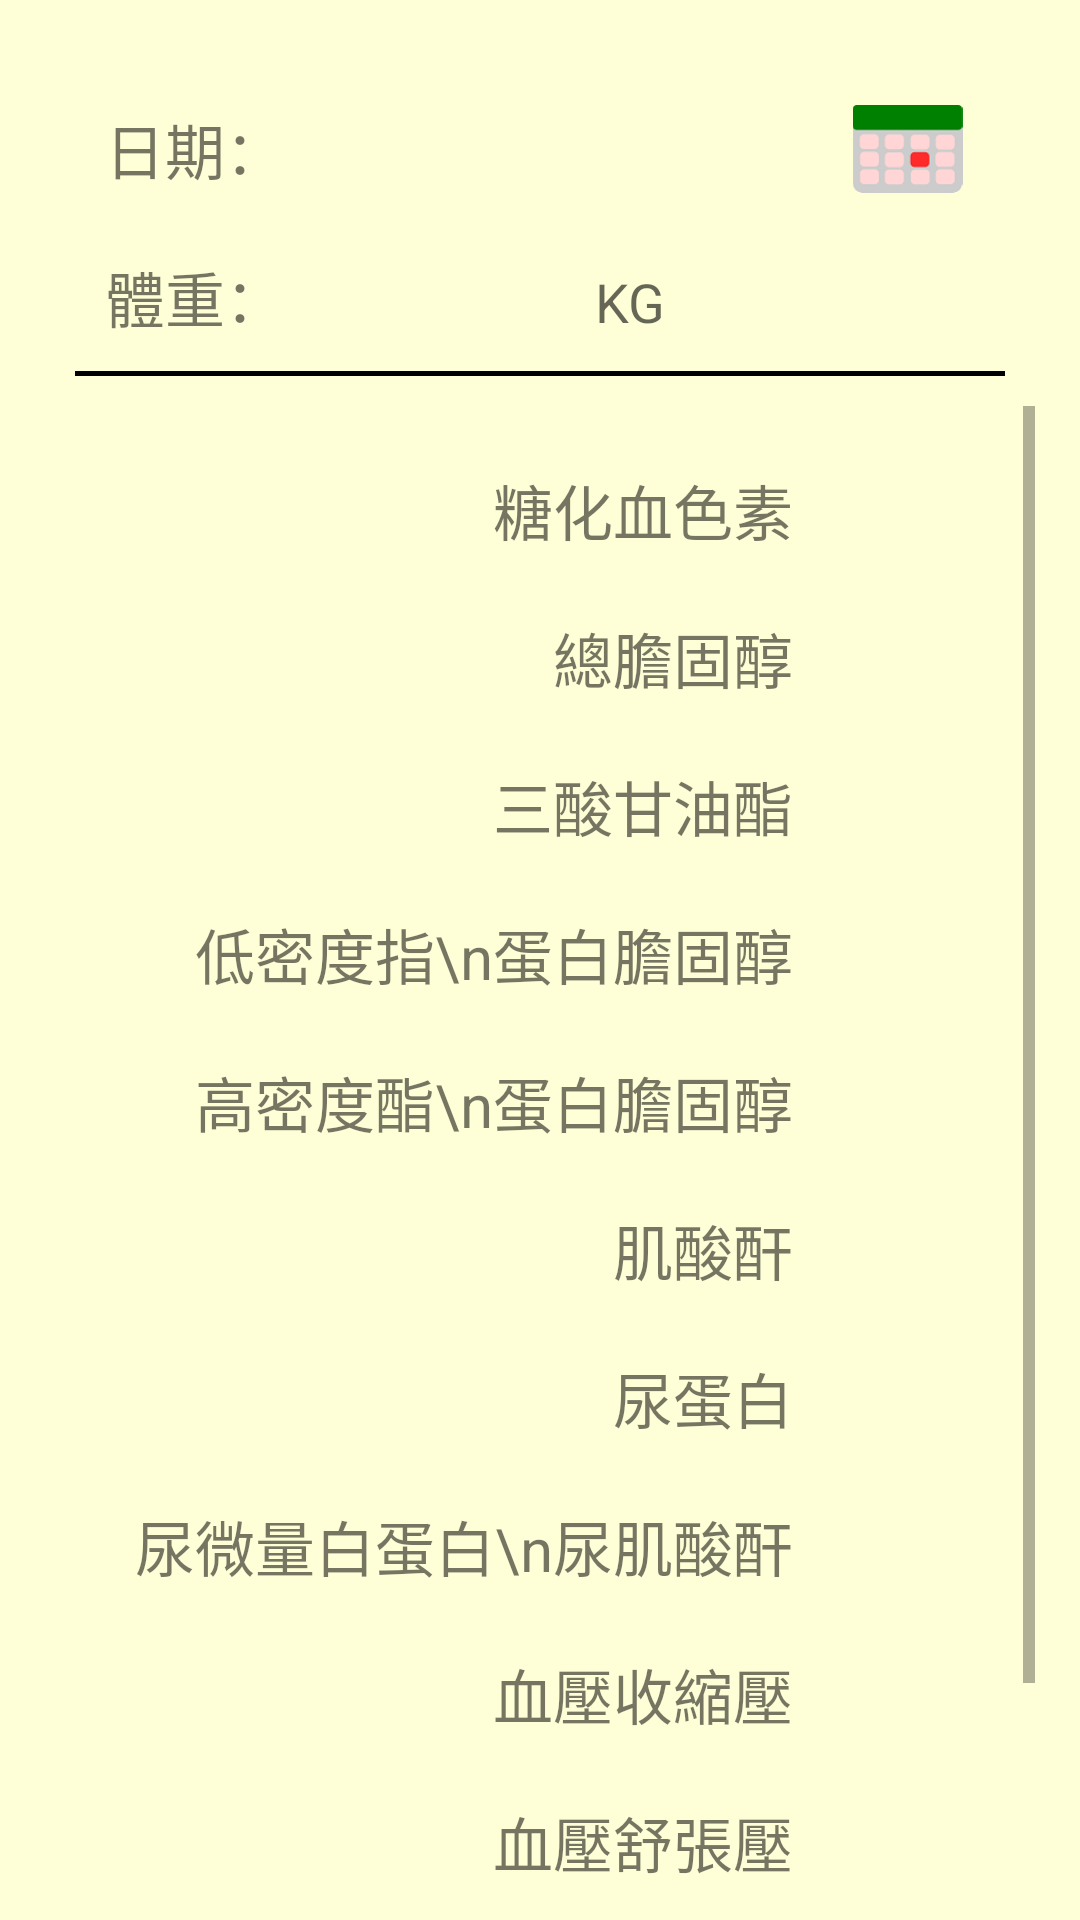

Icon click points for this 1080x1920 phone screenshot, format (x,y):
calendar: (908,149)
